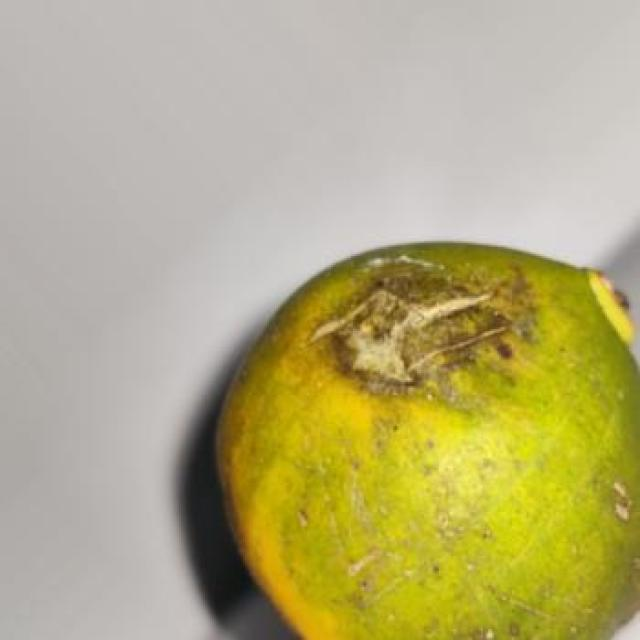damaged: (219, 243, 638, 638)
